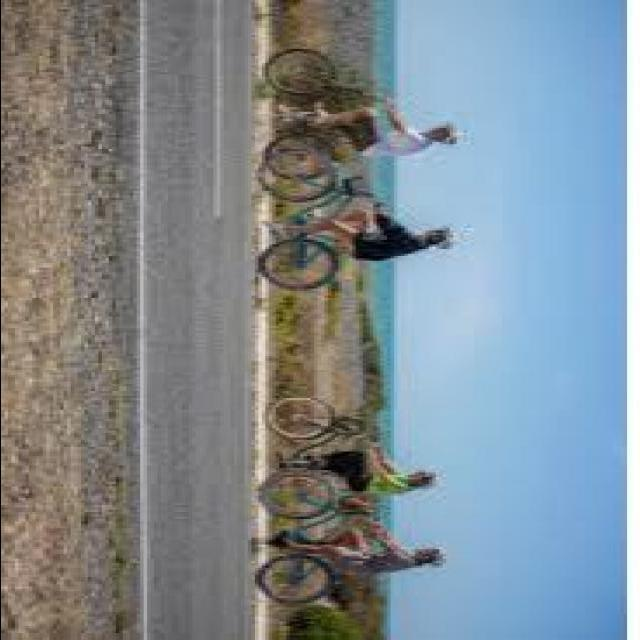bicycle: (258, 50, 383, 188), (252, 474, 380, 600), (255, 171, 377, 295), (265, 399, 373, 492)
